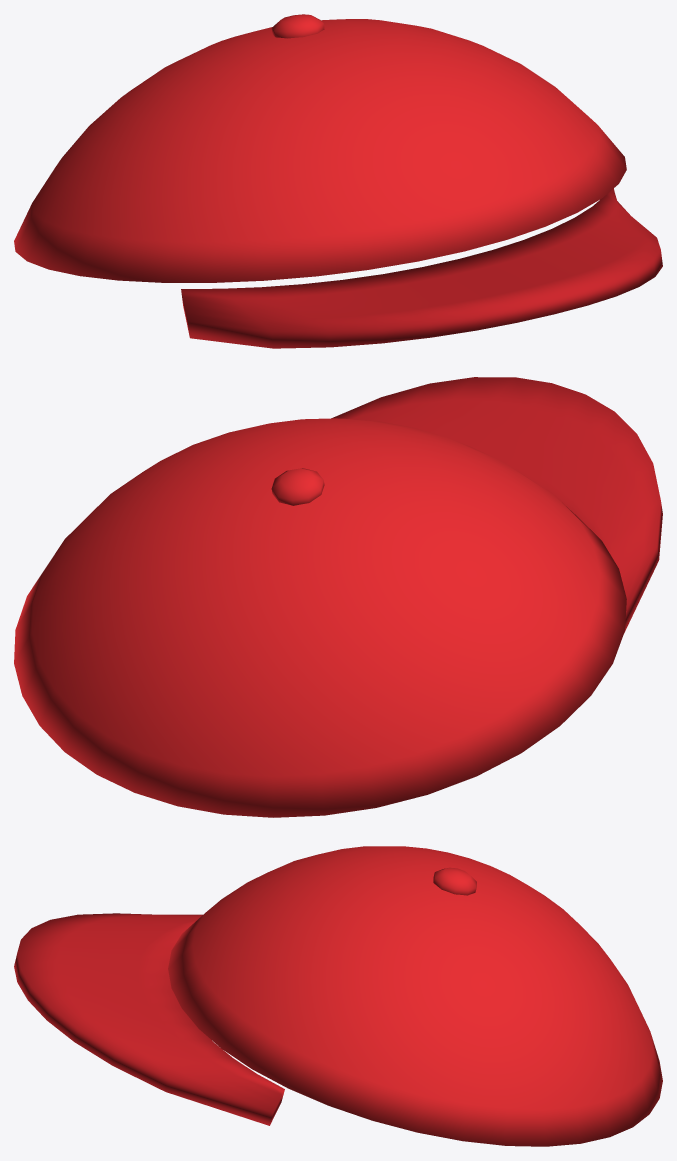
Rendered from cap_basic.glb.
The picture shows the model from 3 angles, top to bottom: view 1: azimuth 30°, elevation 25°; view 2: azimuth 150°, elevation 25°; view 3: azimuth 270°, elevation 25°; orthographic projection. The views are drawn at different scales.
Visible parts, largest first — view 1: cap_basic; view 2: cap_basic; view 3: cap_basic.
Part boxes in pixels (x1,y1,x2,y2): cap_basic: (14, 14, 662, 348); cap_basic: (14, 377, 662, 817); cap_basic: (14, 846, 662, 1146).
Size of the model in its own units: 0.428 by 0.1838 by 0.5155.
